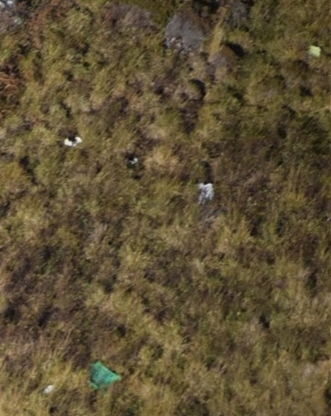scattered_barrel: (56, 117, 229, 208)
white_in_green: (63, 339, 143, 405), (293, 27, 331, 70)
